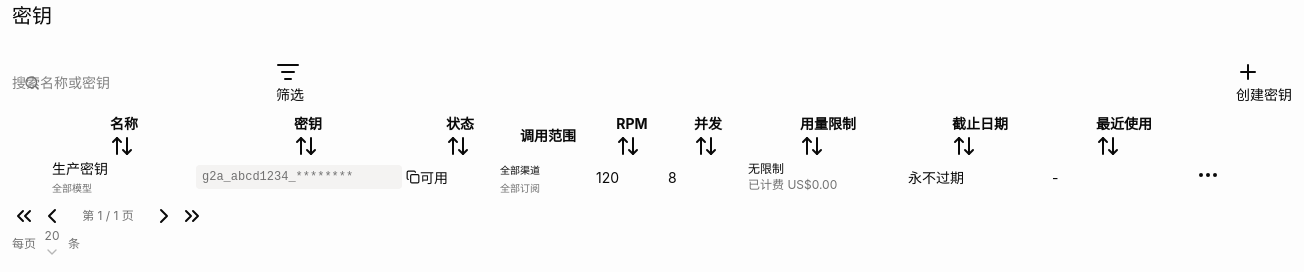
it: ClientKeysPage 查询参数 › 状态筛选写入 status 参数
Expected: the row with test id "client-keys-row-key-1" is shown, [12, 158, 1236, 196]
Click the button "筛选" at (290, 82), box [276, 60, 304, 105]
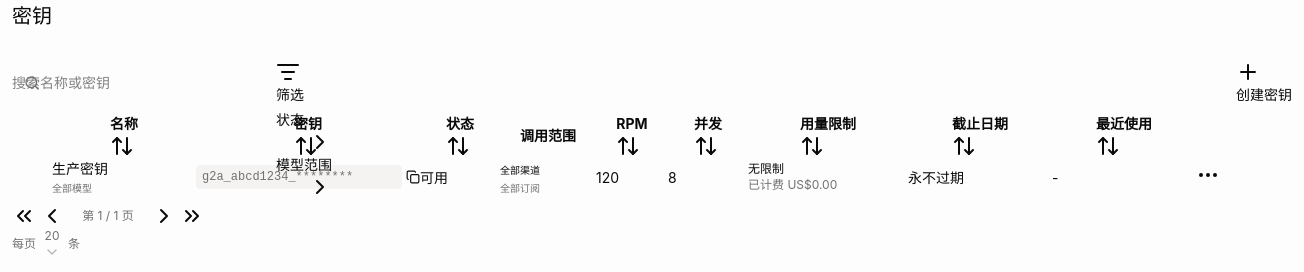
Click the menu item "状态" at (290, 120), box [276, 109, 332, 154]
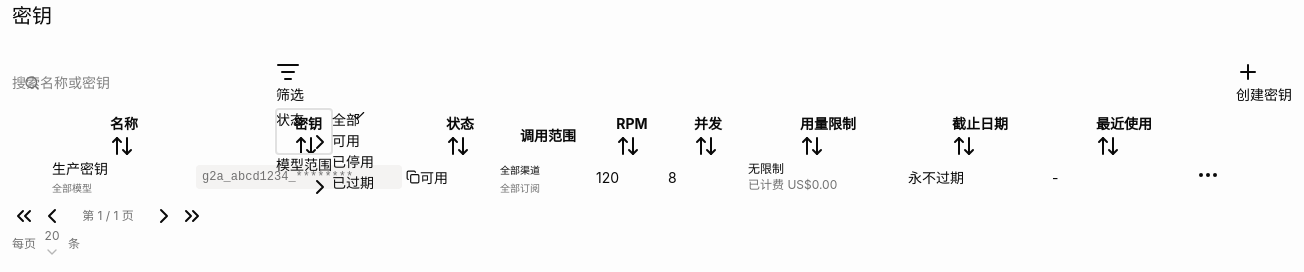
Click the menu item "已停用" at (353, 162), box [332, 151, 374, 172]
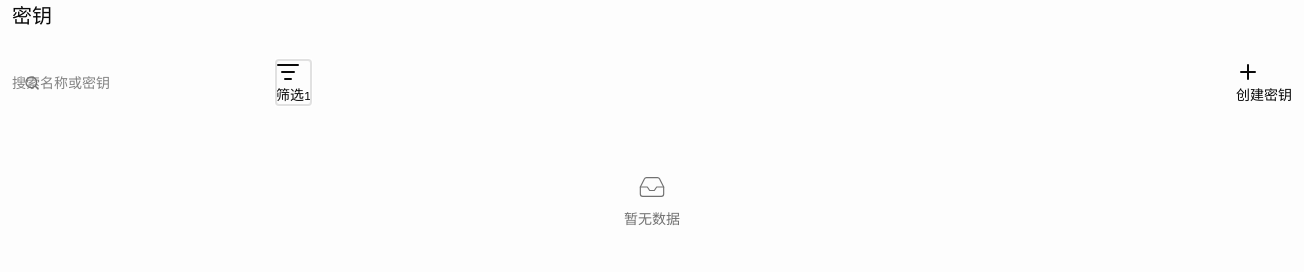
Result: the element with test id "client-keys-empty" is shown at [624, 173, 680, 227]
